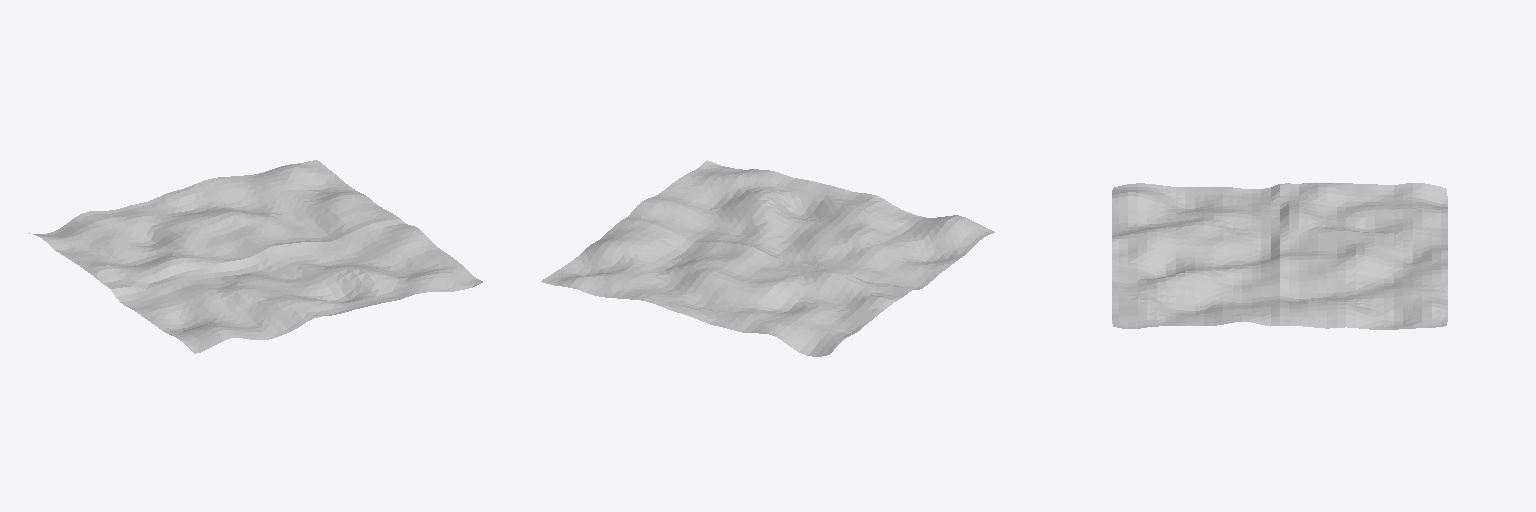
The model's file is water2.obj.
The picture shows the model from 3 angles: view 1: azimuth 30°, elevation 25°; view 2: azimuth 150°, elevation 25°; view 3: azimuth 270°, elevation 25°; orthographic projection.
Parts seen in each view (by area): view 1: Grid.001; view 2: Grid.001; view 3: Grid.001.
Boxes of the visible parts, x1,y1,x2,y2 form: Grid.001: [29, 160, 482, 353]; Grid.001: [541, 160, 994, 356]; Grid.001: [1112, 183, 1447, 329].
Size of the model in its own units: 116 by 6.71 by 116.